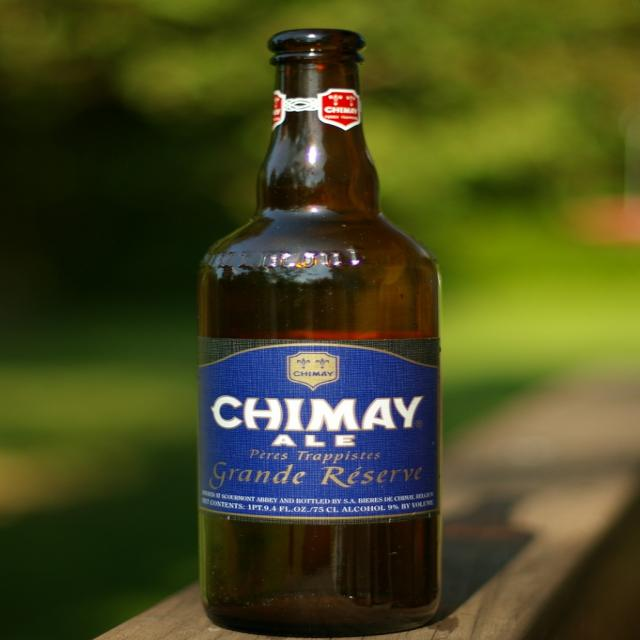chimay: (198, 345, 445, 522)
